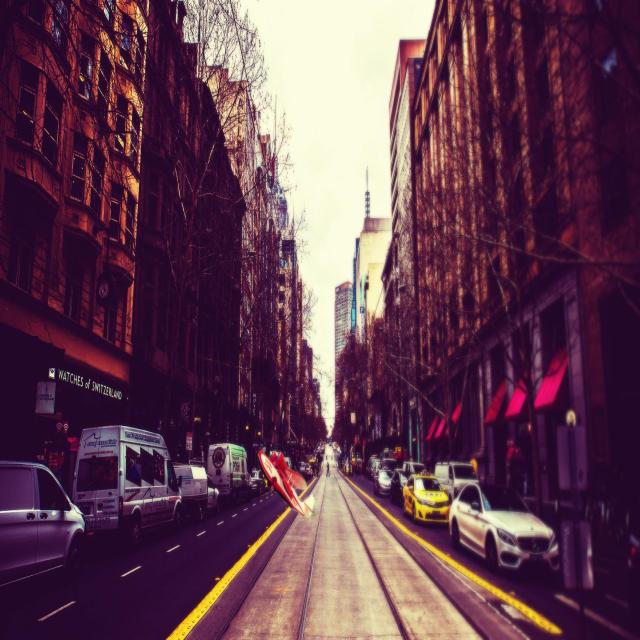airplane: (257, 448, 316, 518)
